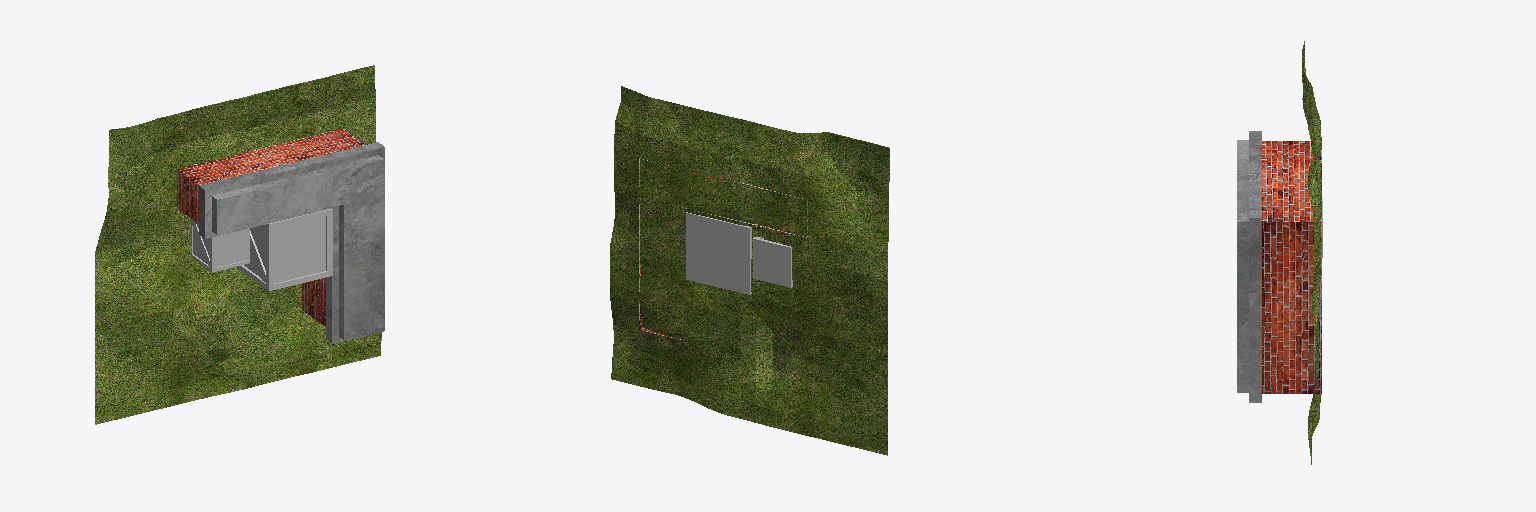
3 views of the same model, side by side, from view 1: azimuth 30°, elevation 25°; view 2: azimuth 150°, elevation 25°; view 3: azimuth 270°, elevation 25° (orthographic).
Visible parts, largest first — view 1: Plane.001, up_Cube.001, Cube, Cube.001_Cube.006, Cube.004_Cube.012; view 2: Plane.001, Cube.001_Cube.006, Cube.004_Cube.012; view 3: Cube, up_Cube.001, Plane.001.
Boxes of the visible parts, <box> form: Plane.001: <box>95,65,381,424</box>; up_Cube.001: <box>199,142,384,343</box>; Cube: <box>177,129,364,326</box>; Cube.001_Cube.006: <box>236,208,332,290</box>; Cube.004_Cube.012: <box>191,219,249,271</box>; Plane.001: <box>610,86,889,455</box>; Cube.001_Cube.006: <box>686,212,751,294</box>; Cube.004_Cube.012: <box>753,237,792,287</box>; Cube: <box>1262,141,1321,393</box>; up_Cube.001: <box>1237,131,1261,402</box>; Plane.001: <box>1302,41,1321,464</box>.
Bounding box in the file's own units: 5.05 × 5.14 × 1.34.
Materials: 4 (3 with a texture image).